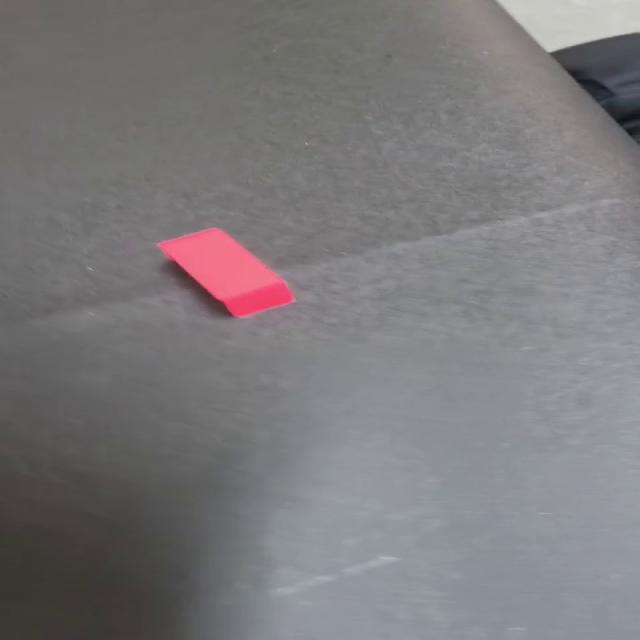red block: (155, 226, 296, 318)
